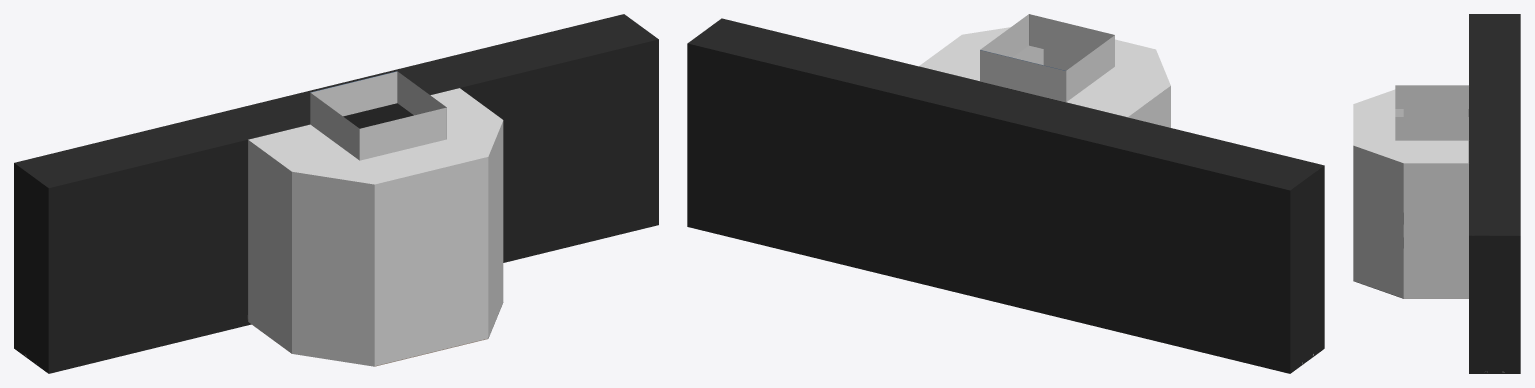
The model's file is prostor.fbx.
3 renders of one model, left to right at view 1: azimuth 30°, elevation 25°; view 2: azimuth 150°, elevation 25°; view 3: azimuth 270°, elevation 25°, orthographic. The views are drawn at different scales.
Parts seen in each view (by area): view 1: prostor; view 2: prostor; view 3: prostor.
Boxes of the visible parts, left/top/right/bottom form: prostor: left=14, top=14, right=658, bottom=373; prostor: left=687, top=14, right=1324, bottom=373; prostor: left=1353, top=14, right=1520, bottom=373.
Bounding box in the file's own units: 1201 × 411 × 383.
Materials: 3 (1 with a texture image).
